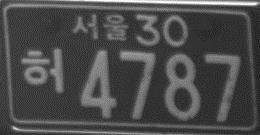0: (161, 14, 189, 46)
3: (134, 12, 161, 47)
4: (79, 48, 120, 120)
7: (202, 51, 243, 124), (118, 49, 157, 123)
8: (163, 52, 204, 122)
서울_O: (72, 12, 129, 43)
허: (21, 47, 65, 96)
